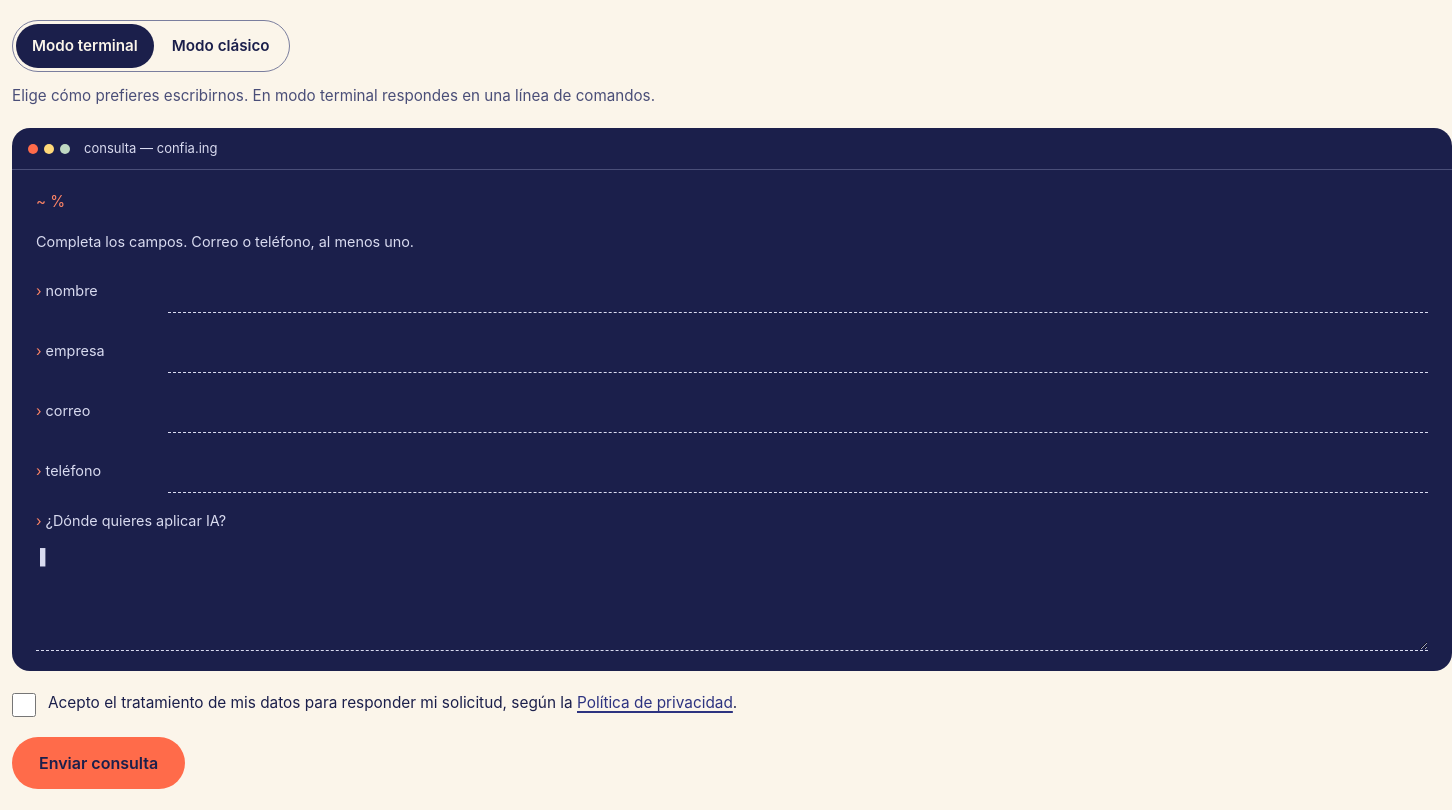
formulario en modo terminal › escribir un teléfono quita el error de «correo o teléfono»
In the field labelled "Nombre": (798, 292) [168,270,1428,314], type "Ana"
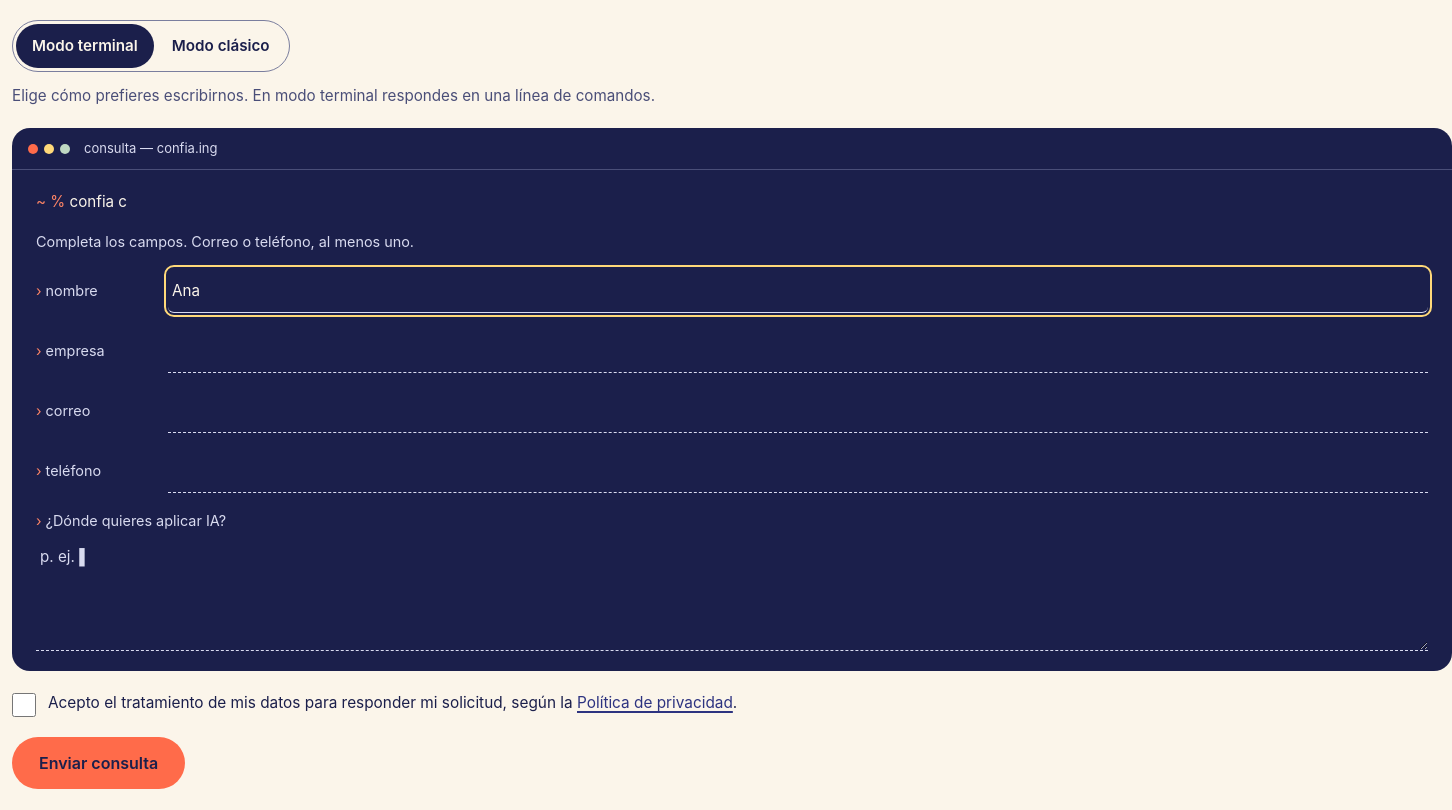
Click the checkbox: (24, 705) [12,693,36,717]
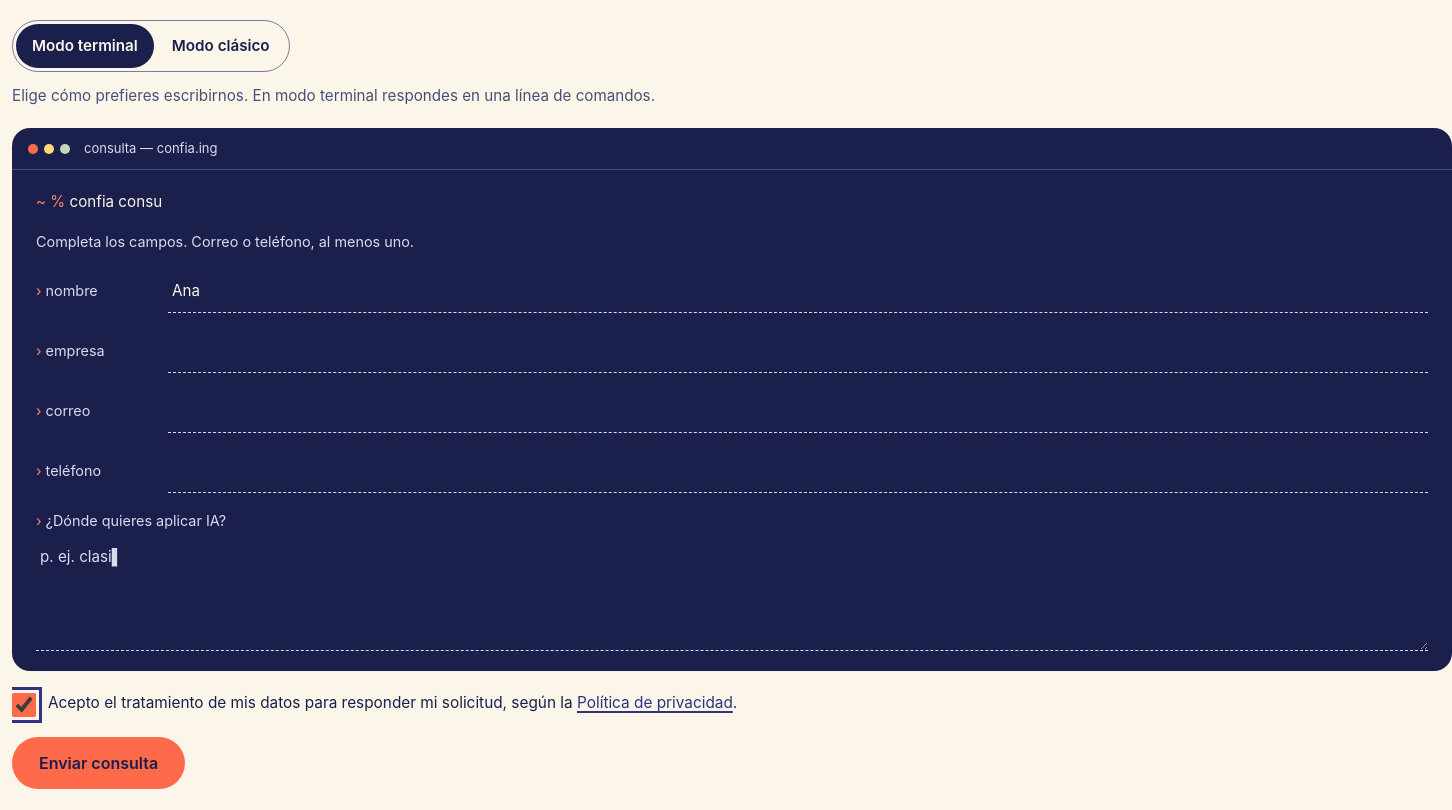
Click the button "Enviar consulta": (99, 763) [12,737,185,789]
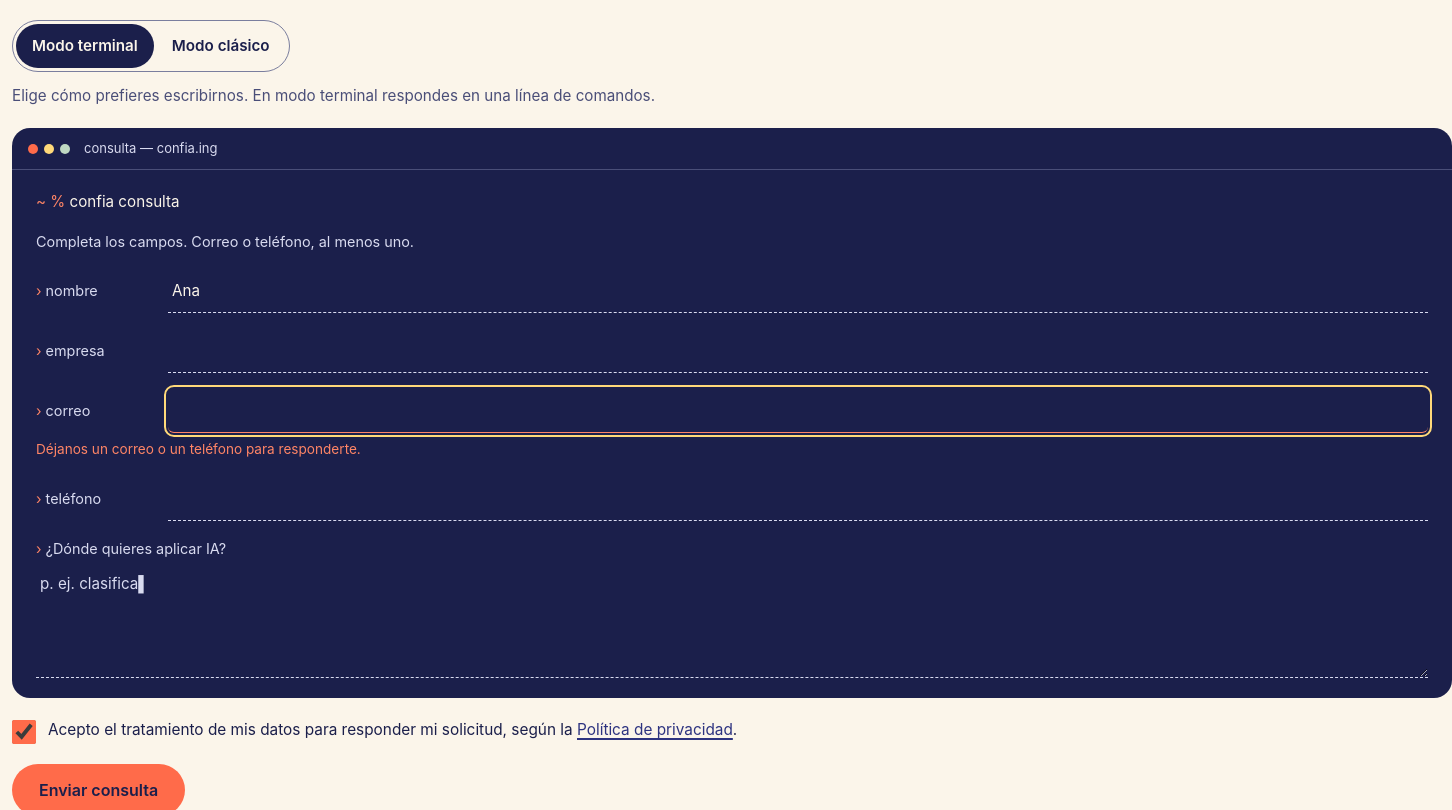
In the field labelled "Teléfono": (798, 499) [168,477,1428,521], type "3"
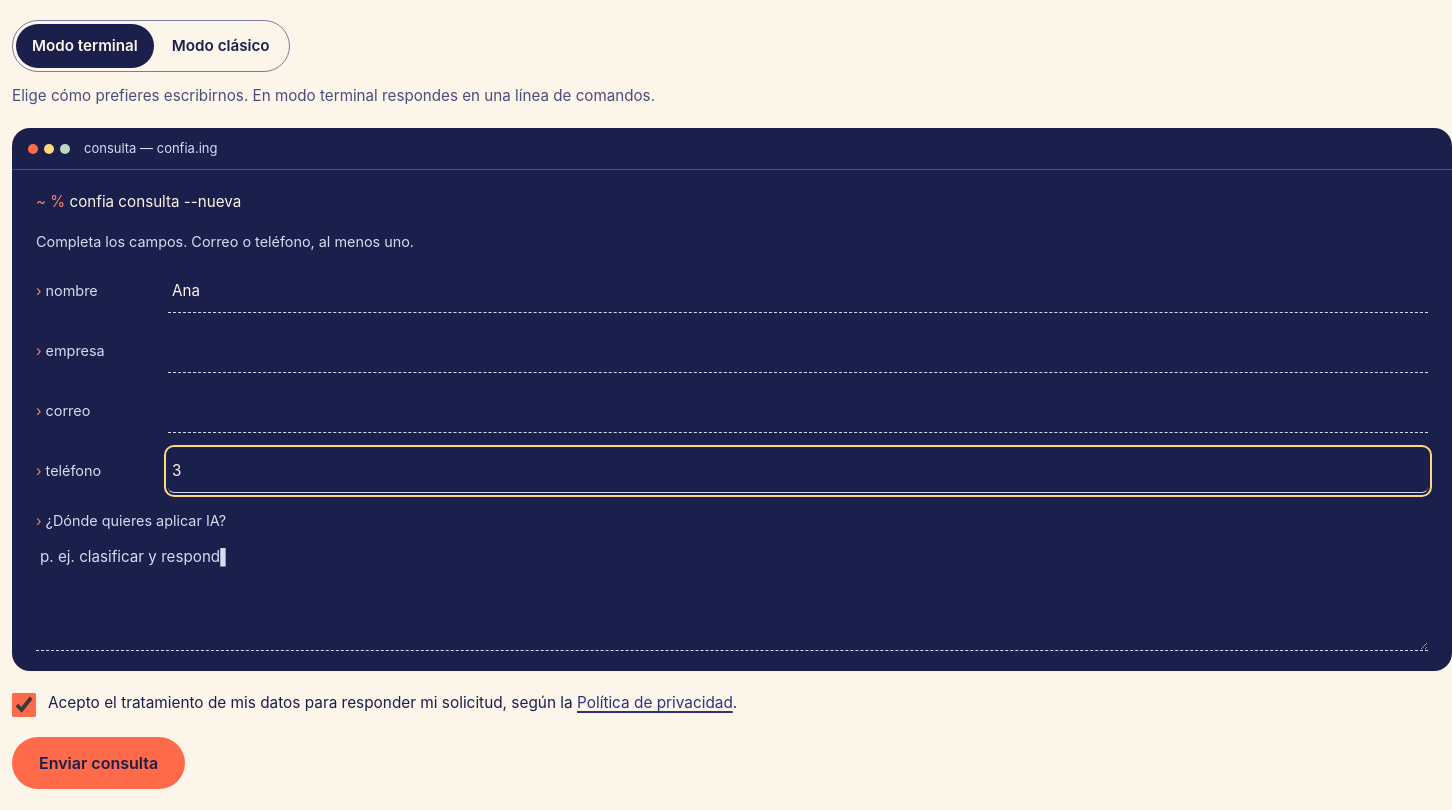
Expected: the text "Déjanos un correo o un teléfono para responderte." is gone
